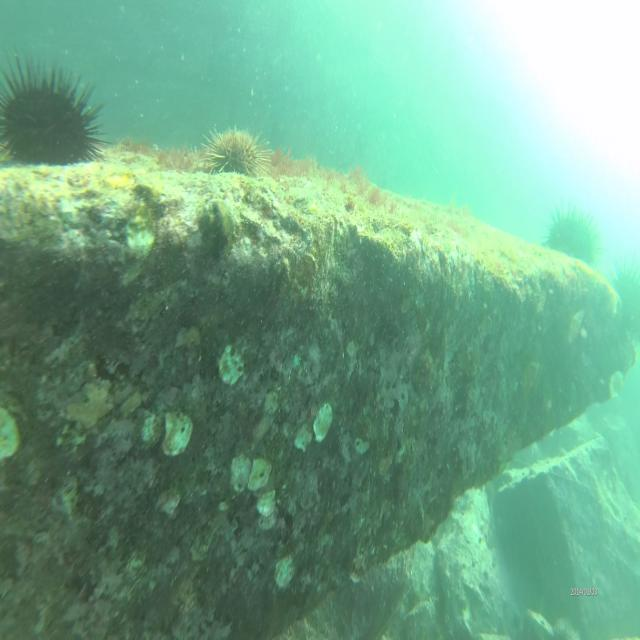echinus: (0, 48, 111, 183), (203, 117, 270, 184), (544, 205, 598, 268), (610, 260, 640, 348)
scallop: (160, 411, 194, 456), (218, 342, 244, 388), (226, 451, 251, 493), (311, 399, 334, 443), (248, 459, 274, 492), (272, 555, 294, 588), (256, 491, 278, 518), (608, 367, 624, 402)
